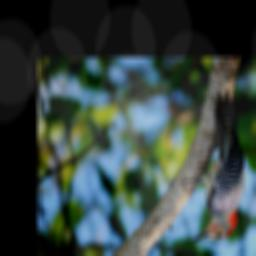Woodpecker: (181, 90, 245, 242)
